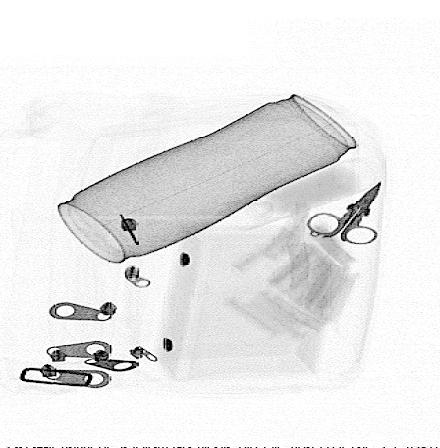Scissors: (305, 181, 384, 245)
